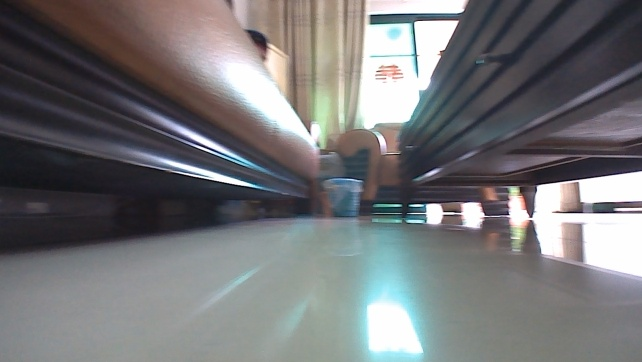sofa1: (0, 0, 321, 216), (334, 118, 410, 217)
tea_table1: (392, 0, 641, 224)
